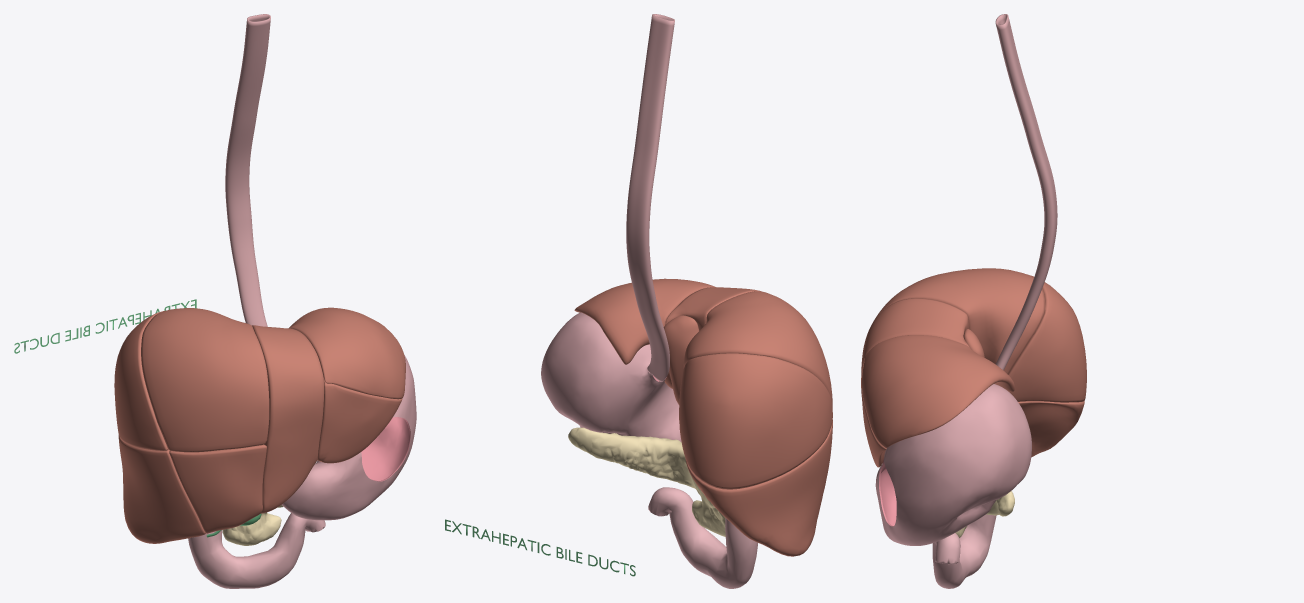
Rendered from gi_upper_hepatobiliary.glb.
3 renders of one model, left to right at view 1: azimuth 30°, elevation 25°; view 2: azimuth 150°, elevation 25°; view 3: azimuth 270°, elevation 25°, orthographic. The views are drawn at different scales.
Parts seen in each view (by area): view 1: GI_Liver_Segment_VIII, GI_Liver_Segment_IV, GI_Esophagus, GI_Liver_Segment_II, GI_Liver_Segment_V, GI_Liver_Segment_VI, GI_Stomach_Muscularis, GI_Duodenum, GI_Liver_Segment_III, GI_Liver_Segment_VII, GI_Stomach_Mucosa, GI_Pancreas (+1 smaller); view 2: GI_Liver_Segment_VII, GI_Stomach_Muscularis, GI_Esophagus, GI_Liver_Segment_VI, GI_Liver_Segment_VIII, GI_Duodenum, GI_Pancreas, GI_Liver_Segment_II, GI_Liver_Segment_I, GI_Liver_Segment_IV, GI_Bile_Ducts; view 3: GI_Stomach_Muscularis, GI_Liver_Segment_II, GI_Liver_Segment_VIII, GI_Liver_Segment_VII, GI_Esophagus, GI_Liver_Segment_IV, GI_Duodenum, GI_Liver_Segment_VI, GI_Stomach_Mucosa, GI_Liver_Segment_III.
Boxes of the visible parts, x1,y1,x2,y2 form: GI_Liver_Segment_VIII: (141, 308, 269, 452); GI_Liver_Segment_IV: (252, 325, 324, 513); GI_Esophagus: (225, 14, 270, 326); GI_Liver_Segment_II: (289, 307, 405, 399); GI_Liver_Segment_V: (169, 444, 266, 533); GI_Liver_Segment_VI: (118, 435, 205, 543); GI_Stomach_Muscularis: (282, 355, 416, 520); GI_Duodenum: (188, 513, 325, 588); GI_Liver_Segment_III: (317, 379, 402, 463); GI_Liver_Segment_VII: (114, 311, 168, 450); GI_Stomach_Mucosa: (361, 417, 410, 481); GI_Pancreas: (222, 505, 283, 545); GI_Liver_Segment_VII: (679, 353, 832, 489); GI_Stomach_Muscularis: (541, 312, 681, 441); GI_Esophagus: (626, 14, 674, 381); GI_Liver_Segment_VI: (685, 420, 832, 556); GI_Liver_Segment_VIII: (683, 291, 832, 407); GI_Duodenum: (648, 487, 757, 588); GI_Pancreas: (568, 427, 725, 536); GI_Liver_Segment_II: (574, 278, 715, 364); GI_Liver_Segment_I: (663, 315, 699, 404); GI_Liver_Segment_IV: (665, 287, 761, 330); GI_Bile_Ducts: (445, 519, 635, 576); GI_Stomach_Muscularis: (875, 384, 1031, 545); GI_Liver_Segment_II: (861, 335, 1014, 448); GI_Liver_Segment_VIII: (874, 268, 1044, 374); GI_Liver_Segment_VII: (1008, 274, 1086, 402); GI_Esophagus: (995, 14, 1057, 370); GI_Liver_Segment_IV: (861, 298, 969, 371); GI_Duodenum: (932, 514, 996, 588); GI_Liver_Segment_VI: (1018, 401, 1084, 457); GI_Stomach_Mucosa: (879, 459, 896, 526); GI_Liver_Segment_III: (861, 359, 886, 467).
Bounding box in the file's own units: 0.2198 × 0.4307 × 0.2892.
